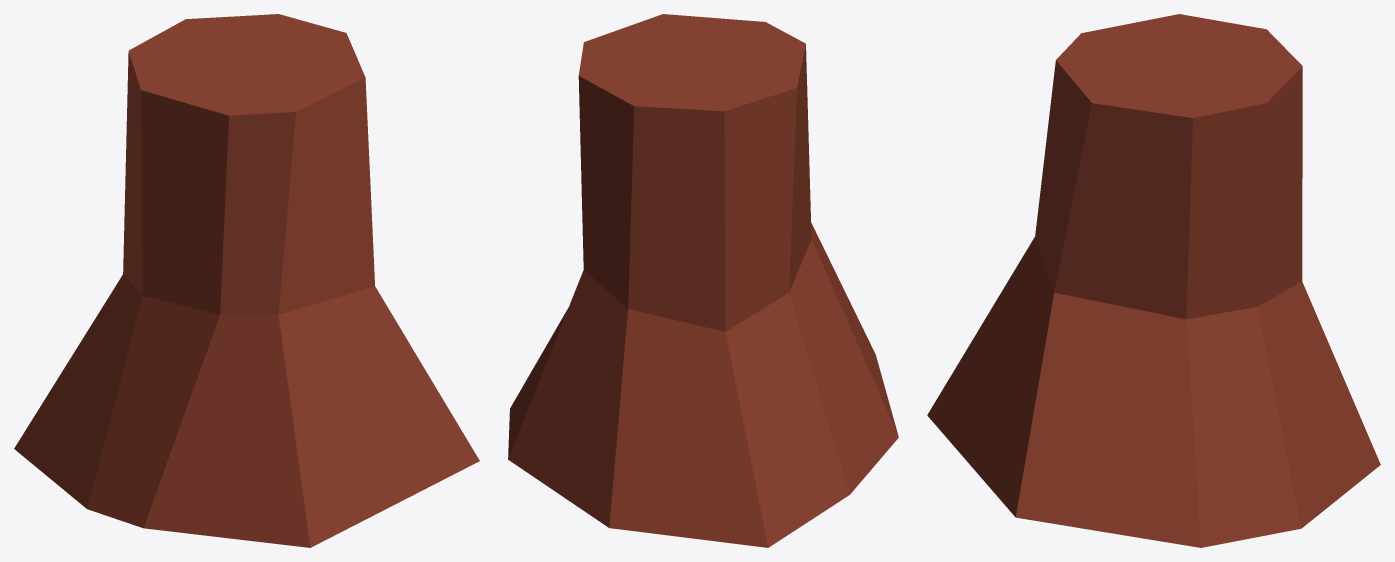
File: stump_2a.fbx
3 views of the same model, side by side, from view 1: azimuth 30°, elevation 25°; view 2: azimuth 150°, elevation 25°; view 3: azimuth 270°, elevation 25° (orthographic). The views are drawn at different scales.
Visible parts, largest first — view 1: stump_2a; view 2: stump_2a; view 3: stump_2a.
Boxes of the visible parts, x1,y1,x2,y2 form: stump_2a: [14, 14, 479, 547]; stump_2a: [508, 14, 898, 547]; stump_2a: [927, 14, 1380, 547].
Size of the model in its own units: 84.77 by 98.37 by 97.71.
